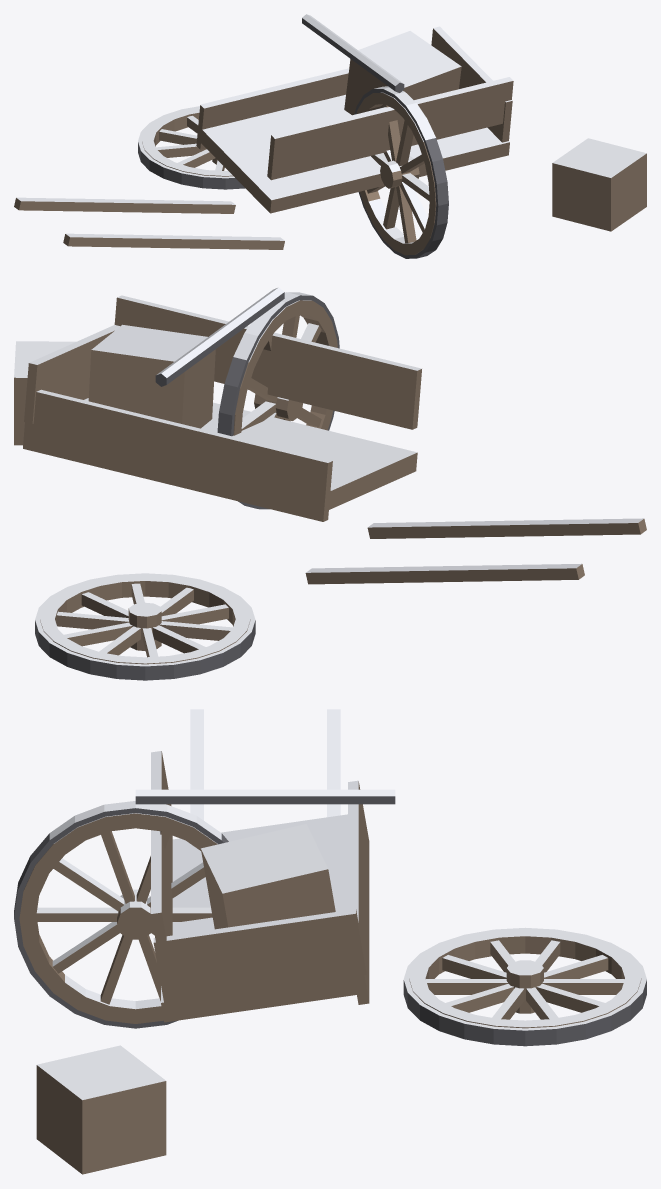
Rendered from PR_Carroca.fbx.
3 views of the same model, one above another, from view 1: azimuth 30°, elevation 25°; view 2: azimuth 150°, elevation 25°; view 3: azimuth 270°, elevation 25° (orthographic). The views are drawn at different scales.
Visible parts, largest first — view 1: PR_Carroca; view 2: PR_Carroca; view 3: PR_Carroca.
Boxes of the visible parts, x1=… form: PR_Carroca: x1=14, y1=14, x2=646, y2=258; PR_Carroca: x1=14, y1=287, x2=646, y2=680; PR_Carroca: x1=14, y1=709, x2=646, y2=1174.
Bounding box in the file's own units: 6.34 × 1.93 × 4.63.
